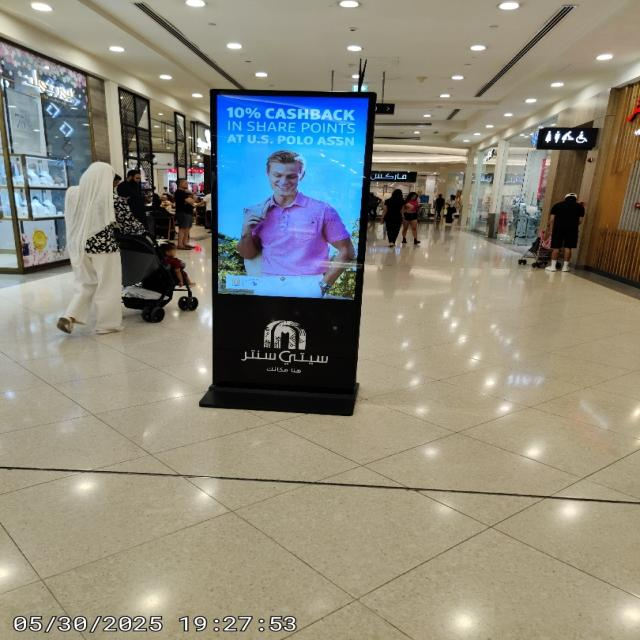mupi: (207, 89, 376, 395)
